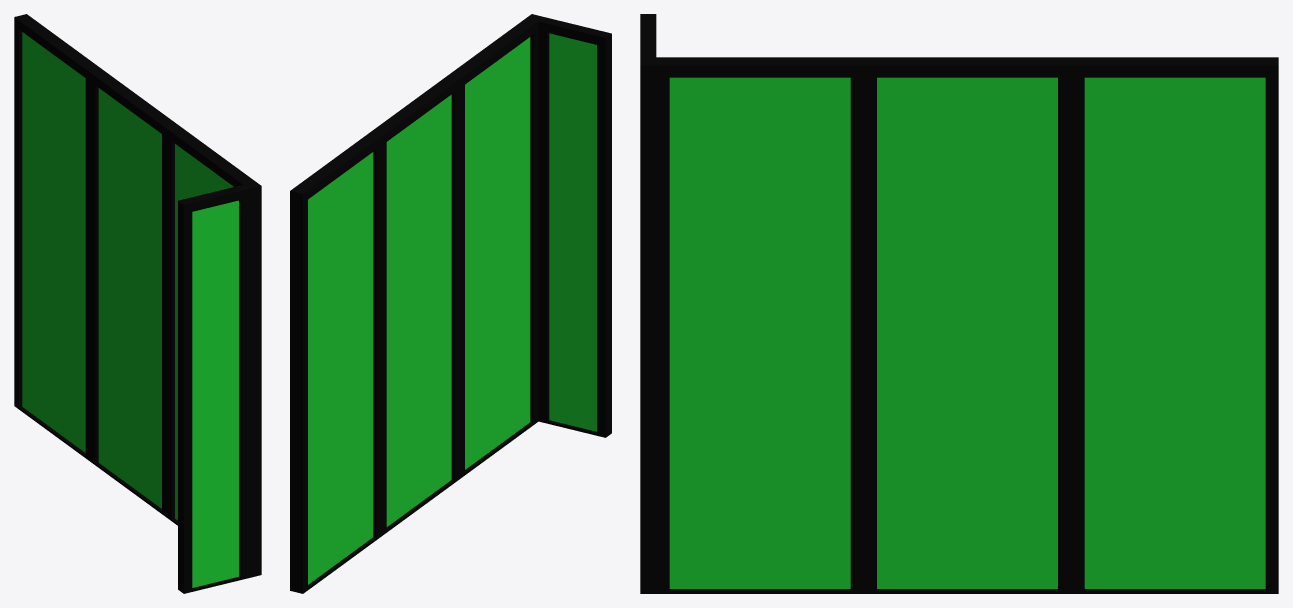
The model's file is Wall_infrontoff_stair_new.fbx.
3 renders of one model, left to right at view 1: azimuth 30°, elevation 25°; view 2: azimuth 150°, elevation 25°; view 3: azimuth 270°, elevation 25°, orthographic. The views are drawn at different scales.
Visible parts, largest first — view 1: wall:wall_infrontoff_stair; view 2: wall:wall_infrontoff_stair; view 3: wall:wall_infrontoff_stair.
Part boxes in pixels (box(x1,y1,x2,y2)): wall:wall_infrontoff_stair: box(14, 14, 261, 593); wall:wall_infrontoff_stair: box(290, 14, 611, 593); wall:wall_infrontoff_stair: box(640, 14, 1278, 593).
Bounding box in the file's own units: 82.67 × 395 × 432.
